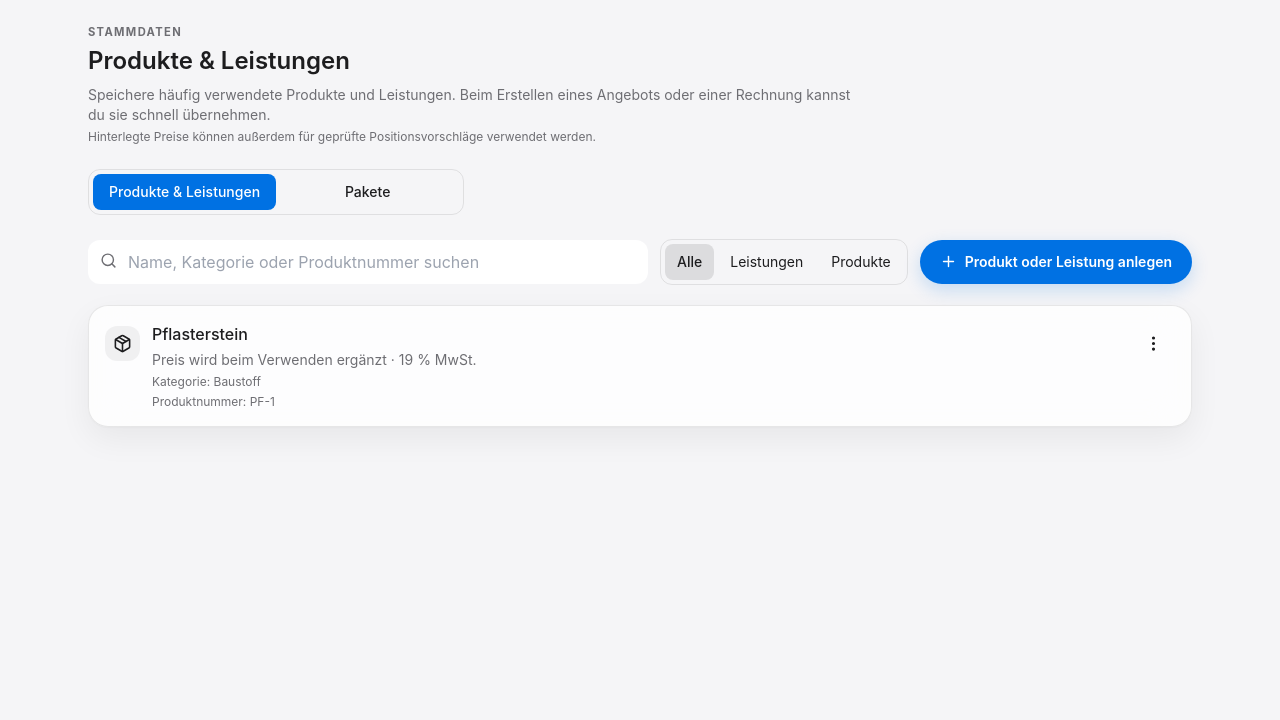
Test: PositionCatalogPage › bearbeitet einen Eintrag und verlangt vor dem Löschen eine Bestätigung
Expected: the heading "Pflasterstein" is shown, [152, 324, 248, 344]
Click the button named "Aktionen für Pflasterstein": (1153, 344) [1131, 322, 1175, 366]
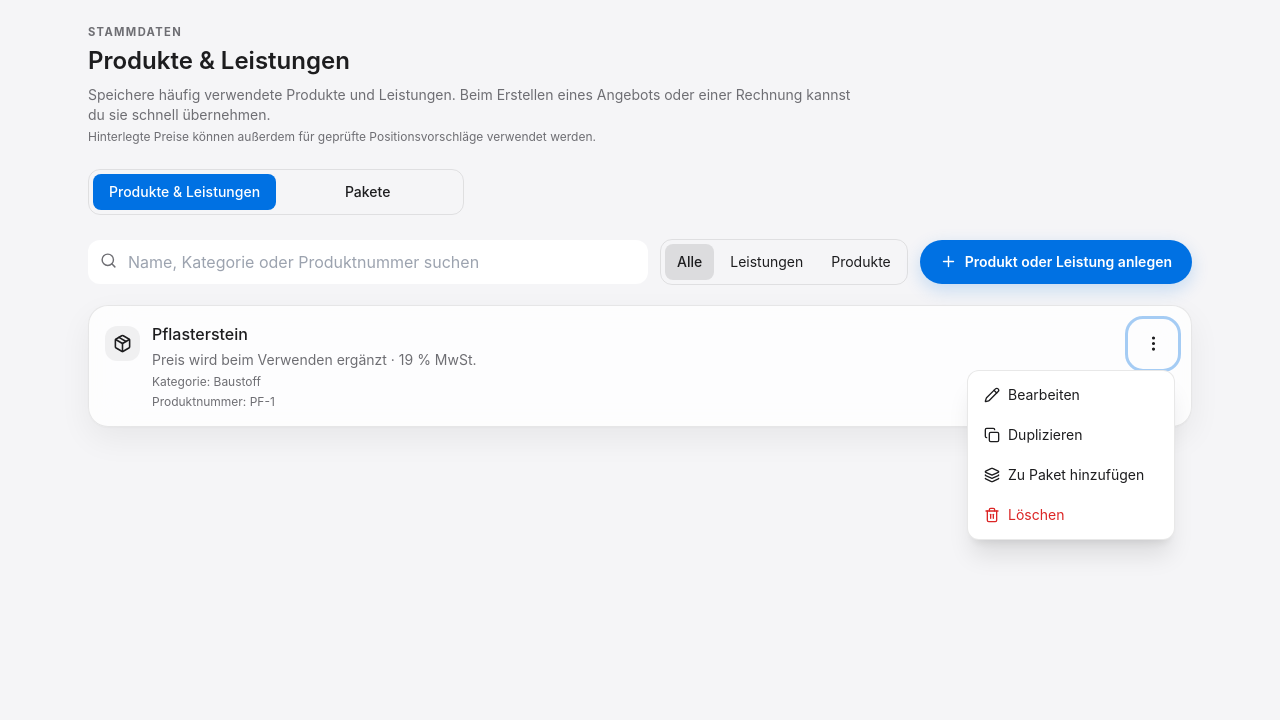
Click the button "Bearbeiten": (1071, 395) [972, 375, 1170, 415]
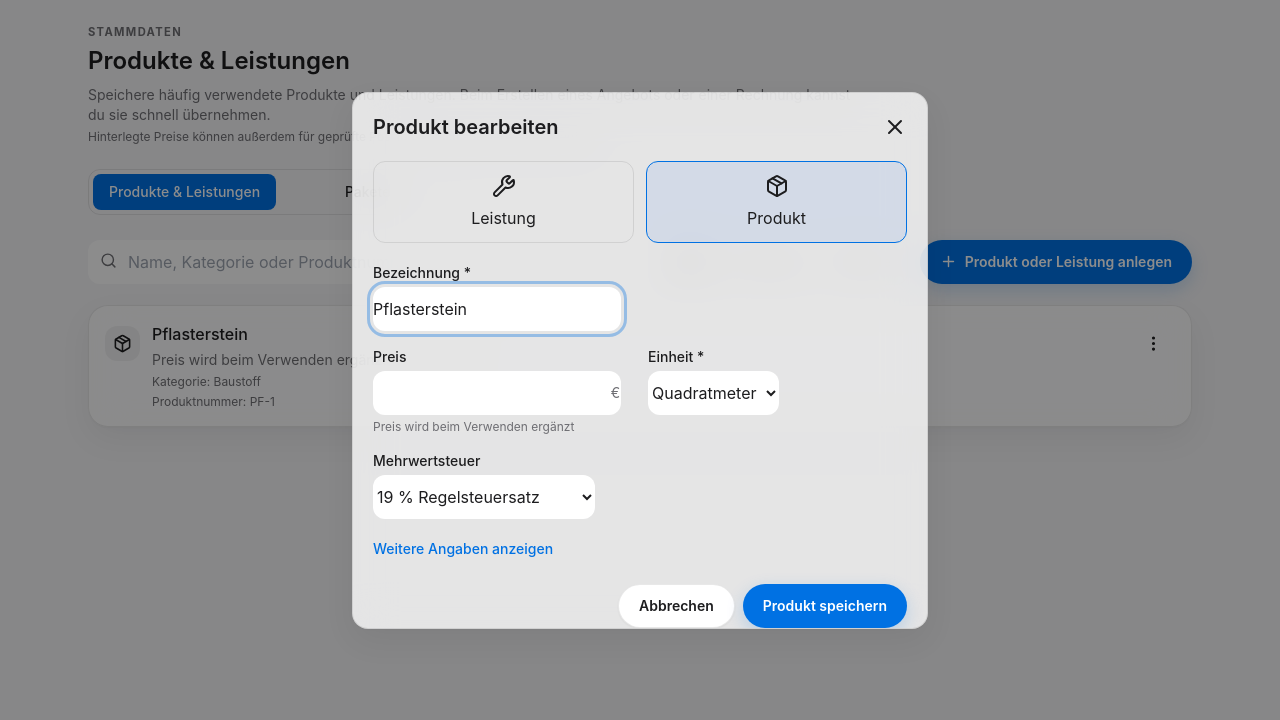
Now the dialog "Produkt bearbeiten" is shown, box [352, 92, 928, 628]
Click the button named "Schließen": (895, 126) [883, 114, 907, 138]
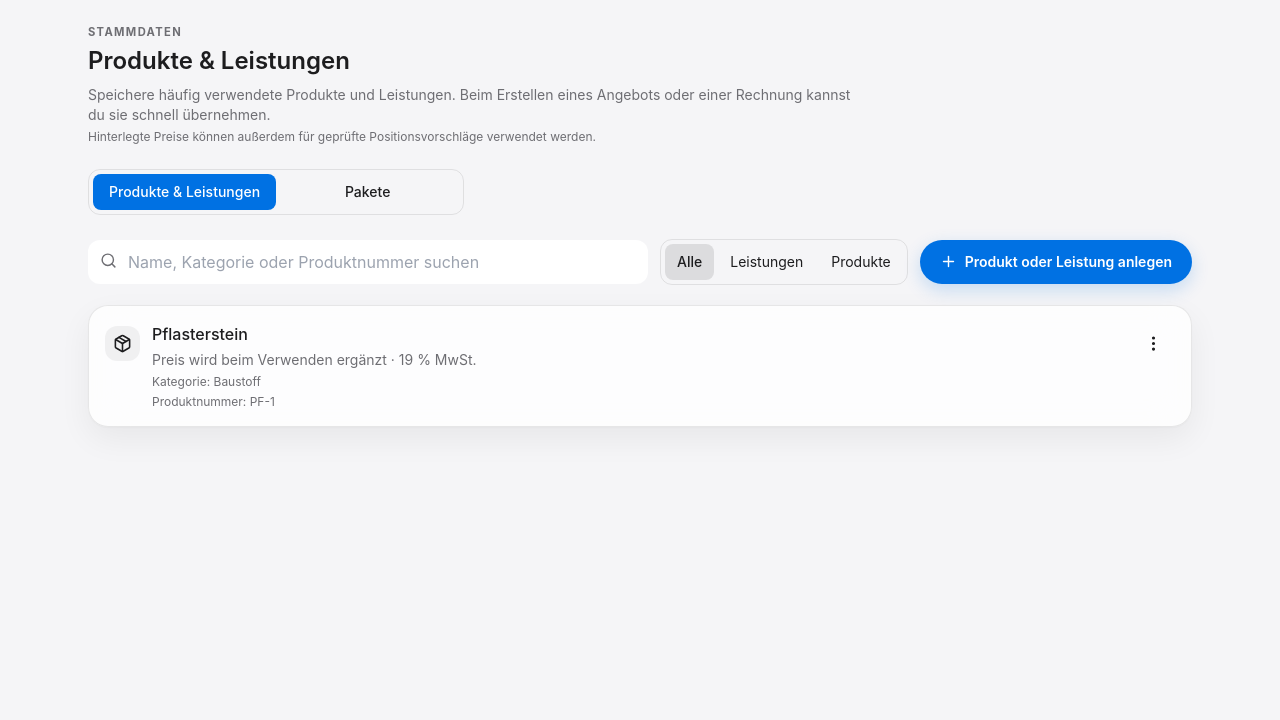
Click the button named "Aktionen für Pflasterstein": (1153, 344) [1131, 322, 1175, 366]
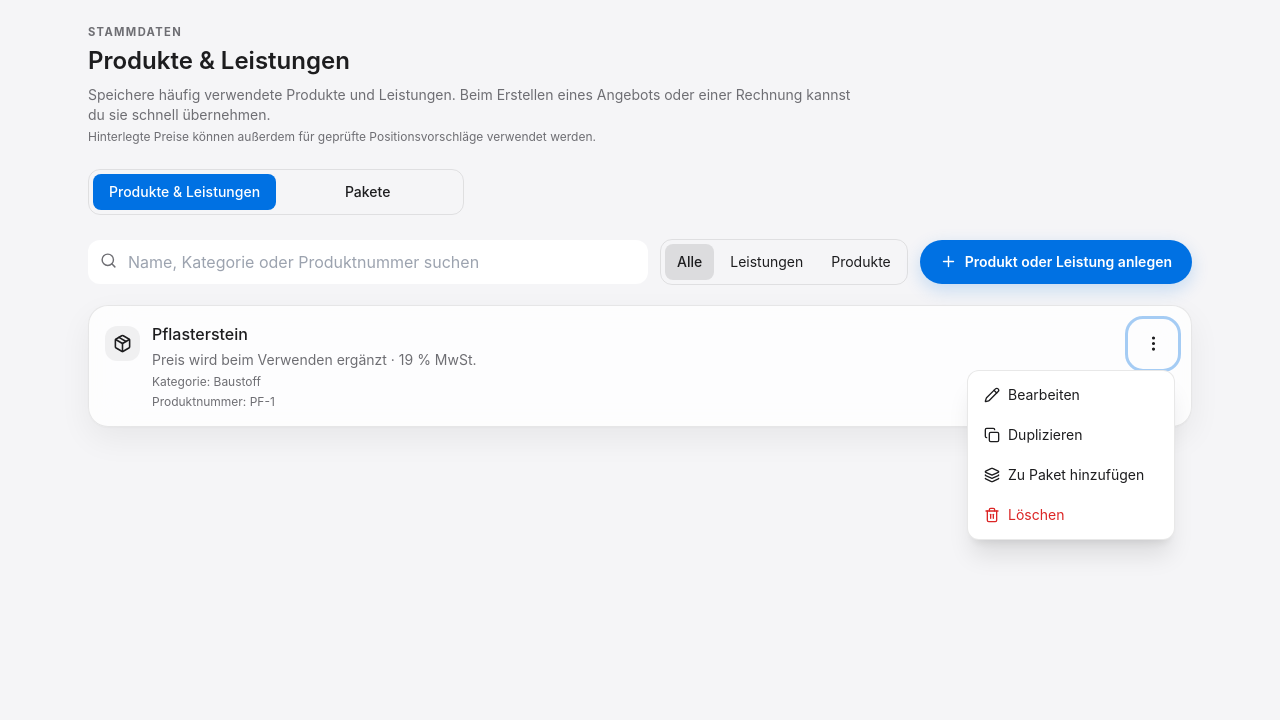
Click the button "Löschen": (1071, 515) [972, 495, 1170, 535]
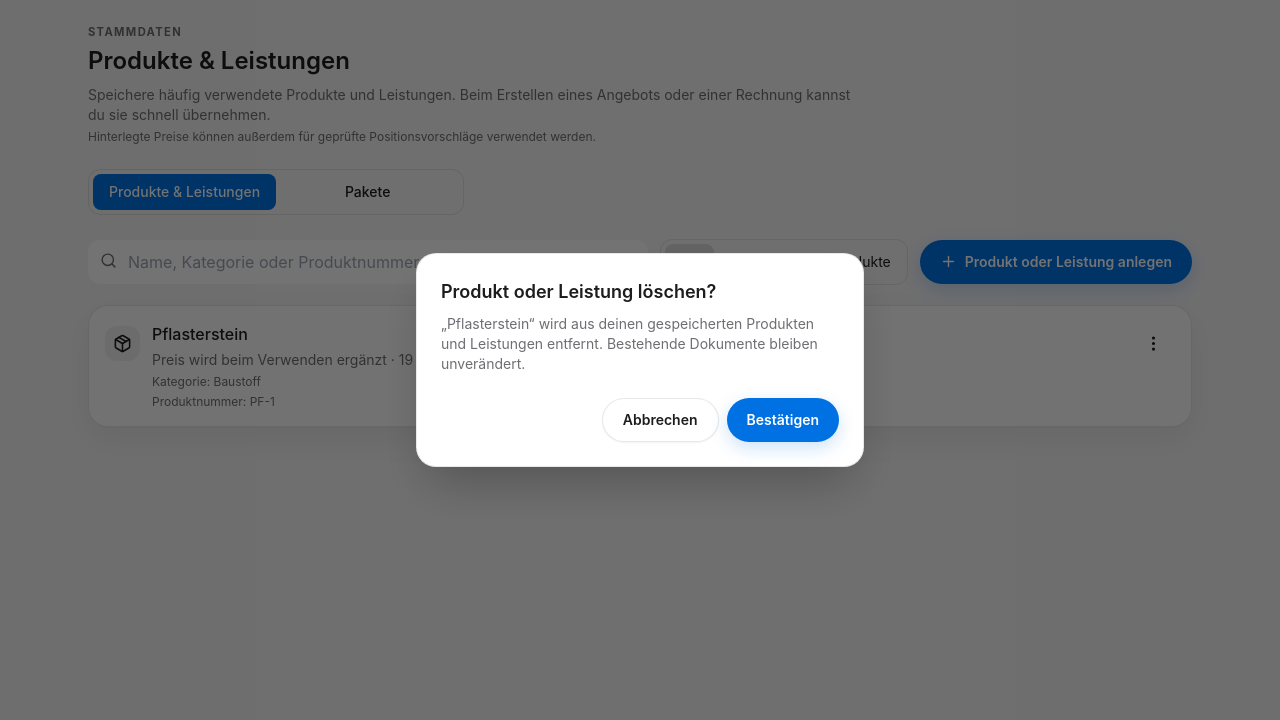
Now the heading "Produkt oder Leistung löschen?" is shown, box [441, 281, 716, 302]
